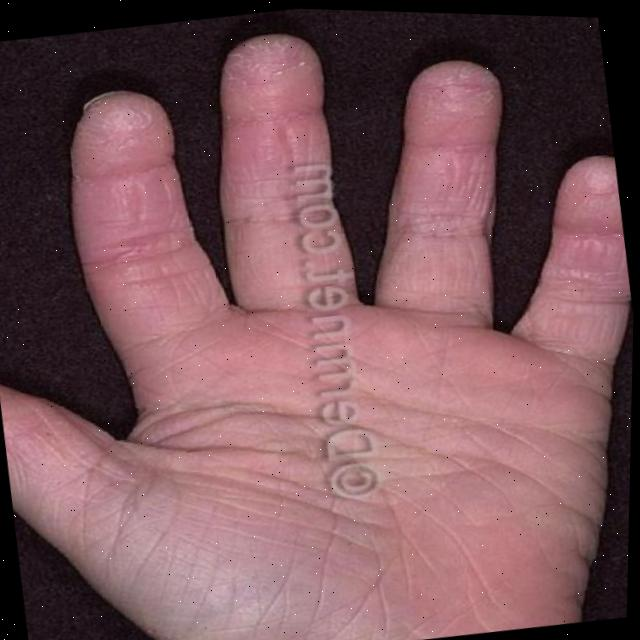Eczema: (163, 278, 609, 640)
